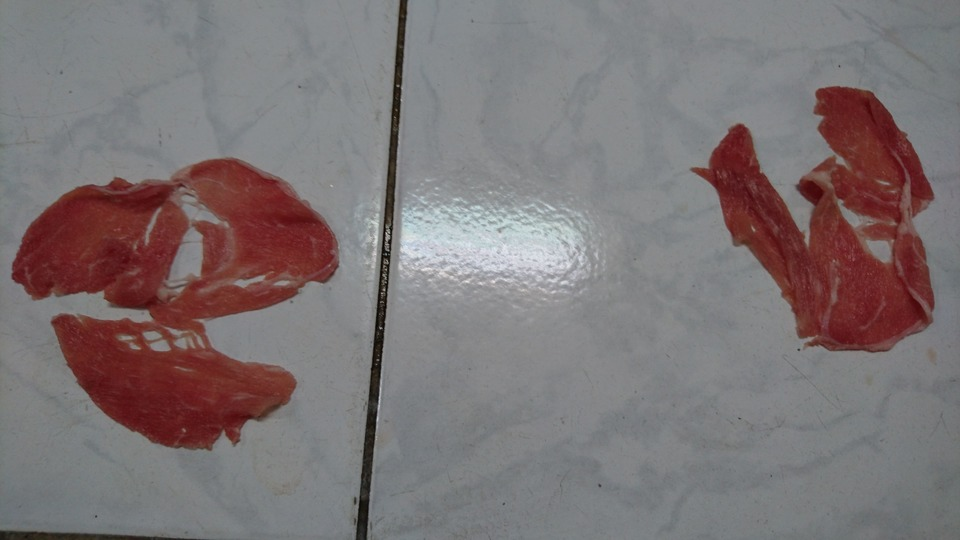restructured meat: (16, 160, 325, 447), (717, 53, 941, 382)
